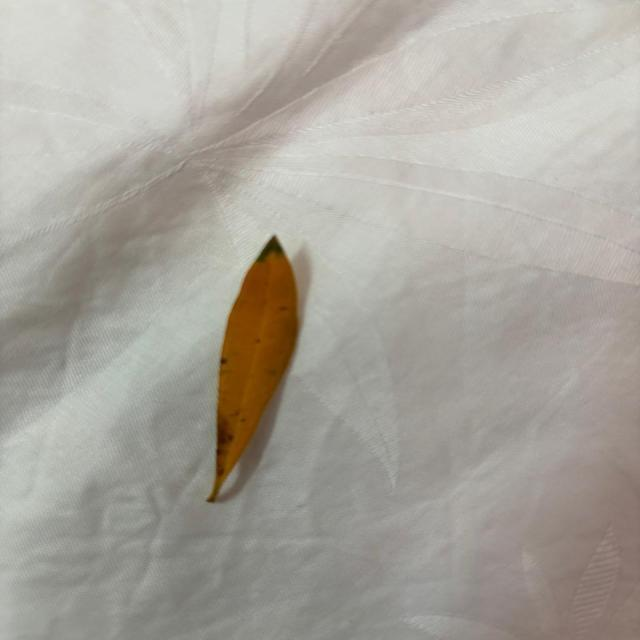OlivePeacockSpot: (206, 237, 298, 503)
